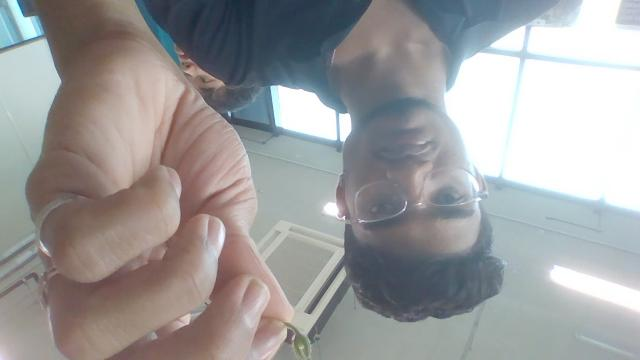Fruit Bud: (288, 325, 313, 360)
